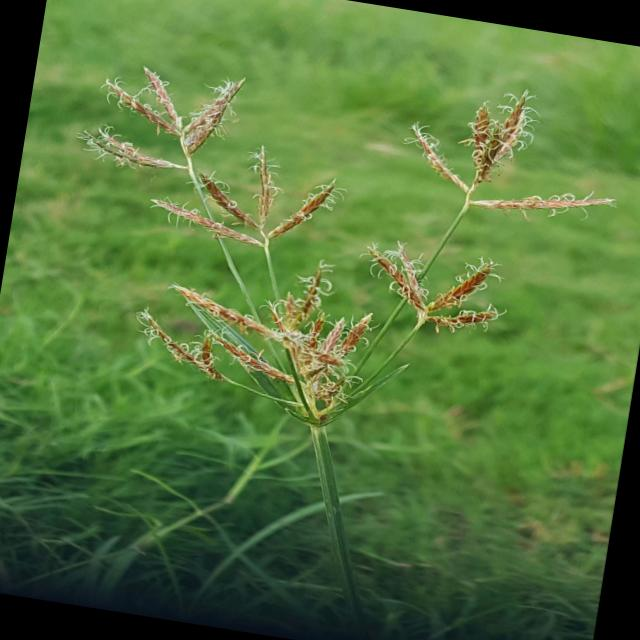cyperus: (37, 15, 638, 467)
